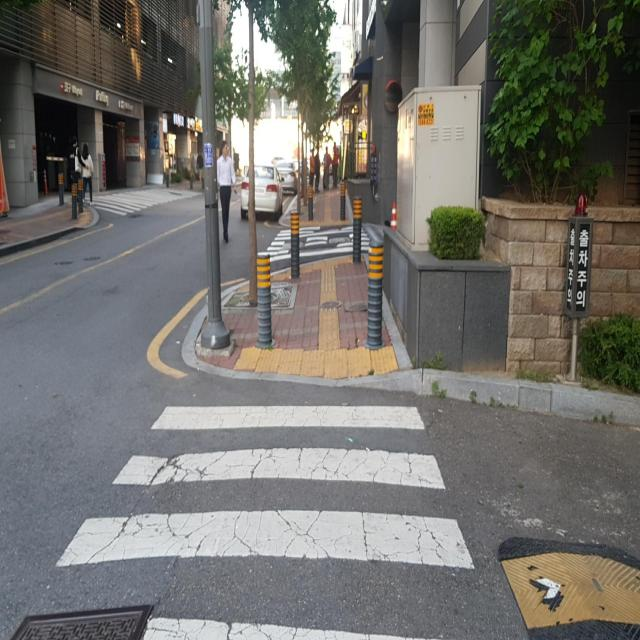횡단보도: (52, 399, 480, 640), (262, 222, 374, 260)
